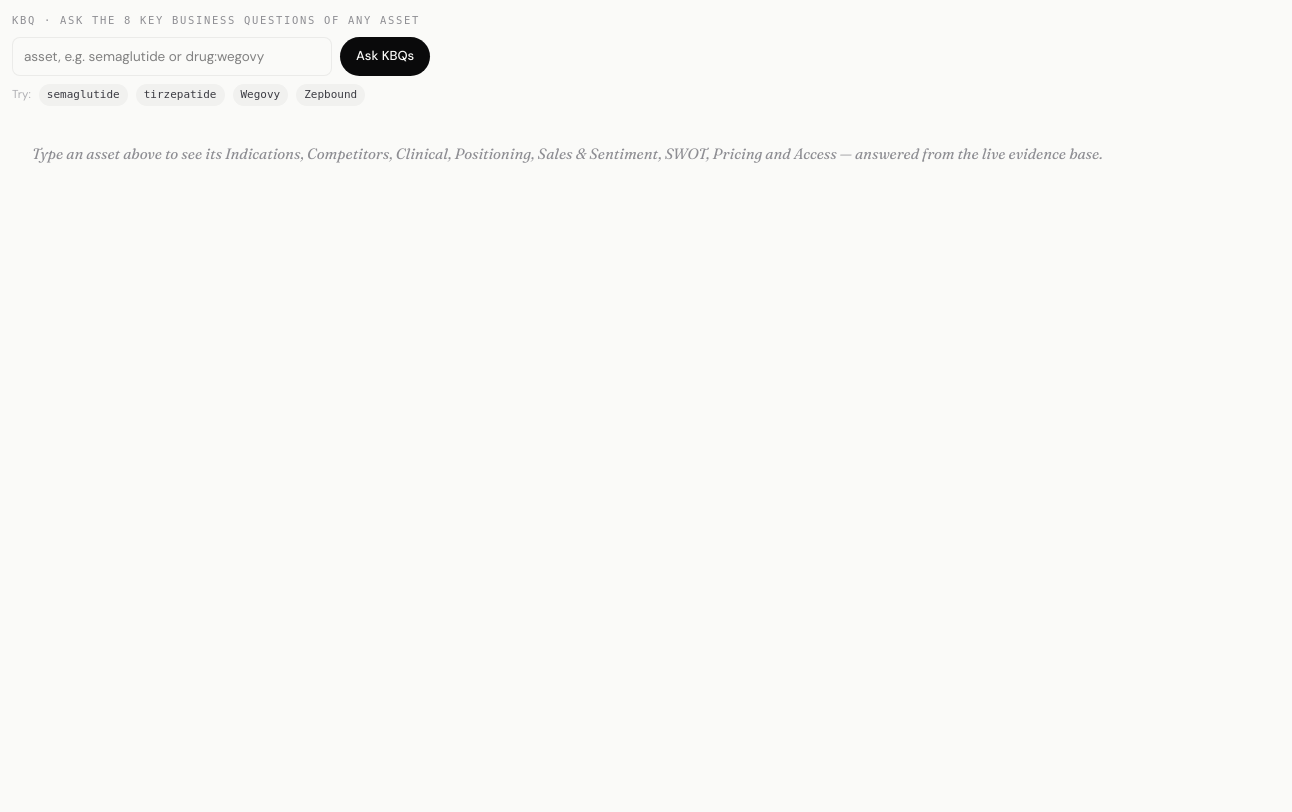
Test case: KbqQueryTab (PB-SL10) › asks the KBQs for the entered asset and renders all 8 with parity
Type "semaglutide" into the field with test id "kbq-asset-input".
click(172, 57); type("semaglutide")  # box [12,37,332,76]
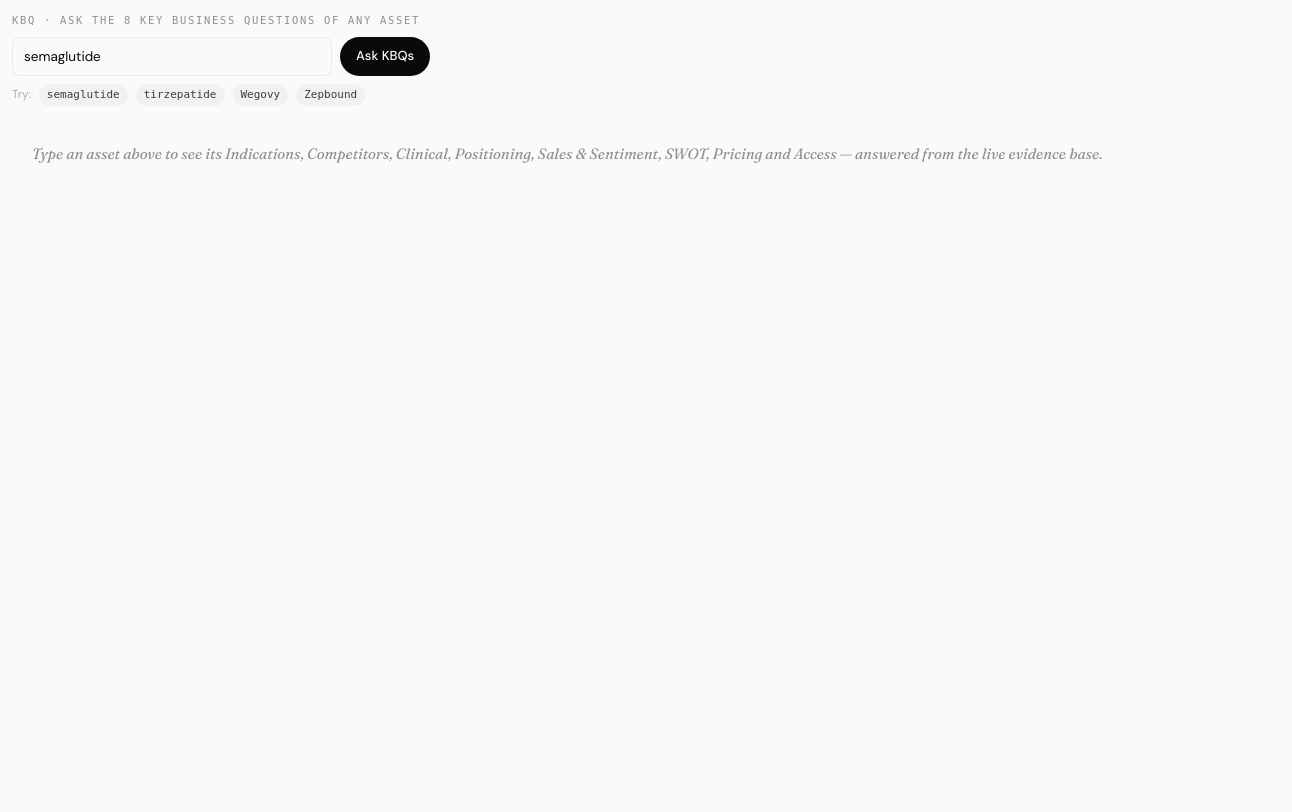
Click the button with test id "kbq-ask".
click(385, 57)  # box [340,37,430,76]
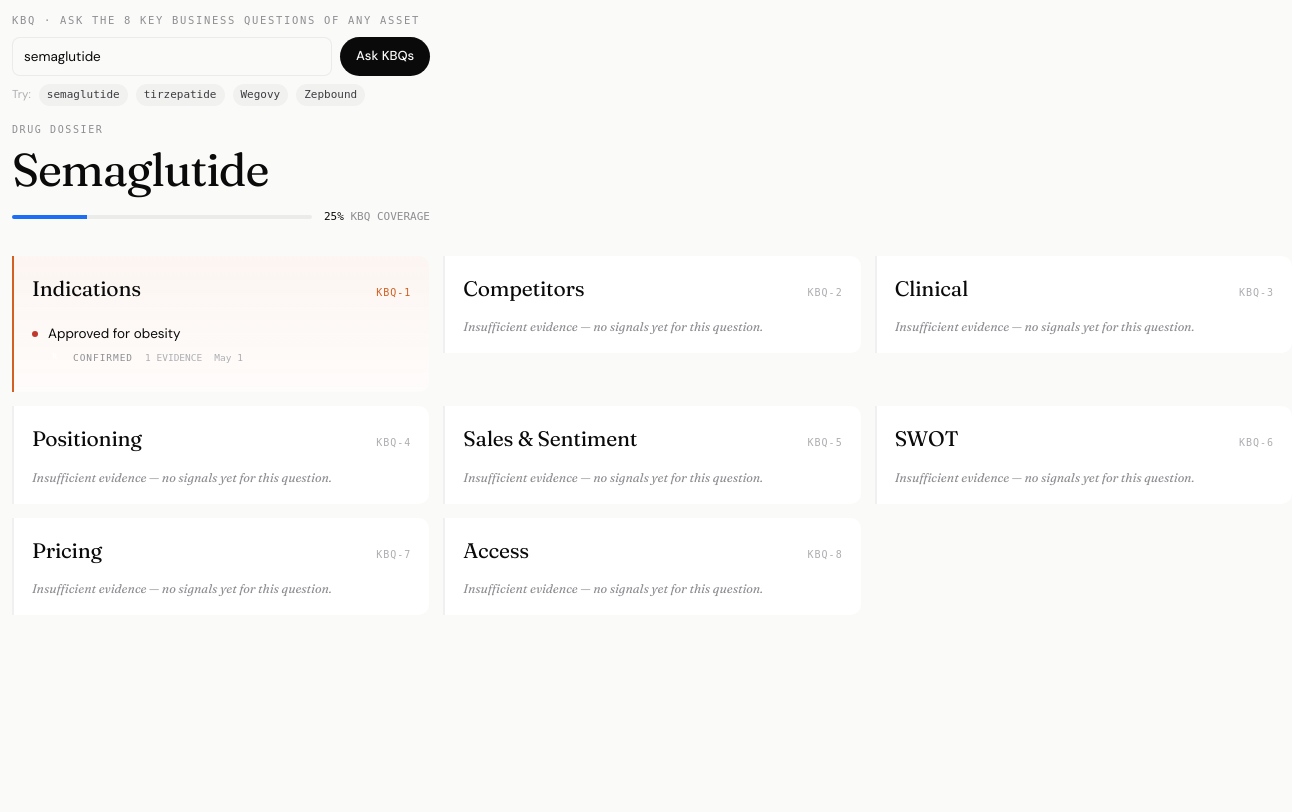
expect the element with test id "kbq-ready" is shown: met
expect the heading "Semaglutide" is shown: met, box [12,141,268,198]
